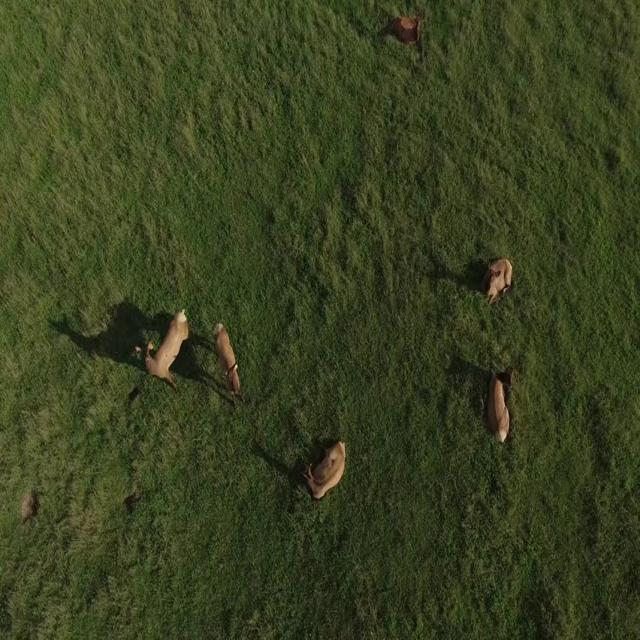Deer: (200, 321, 266, 411), (472, 368, 534, 456), (301, 422, 358, 504), (144, 307, 188, 390), (475, 242, 528, 310), (383, 11, 435, 58)
